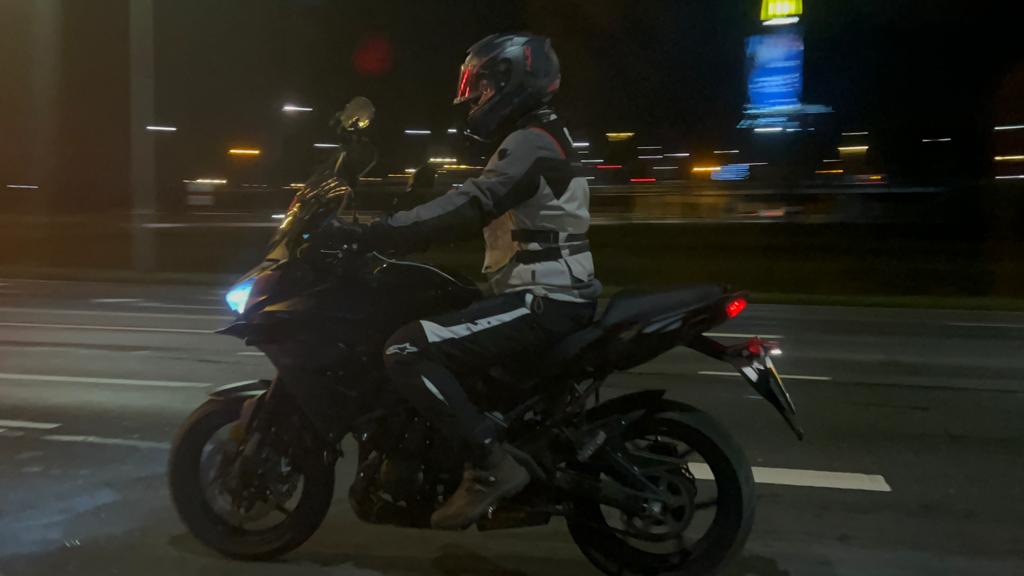motorcycle: (167, 93, 802, 575)
